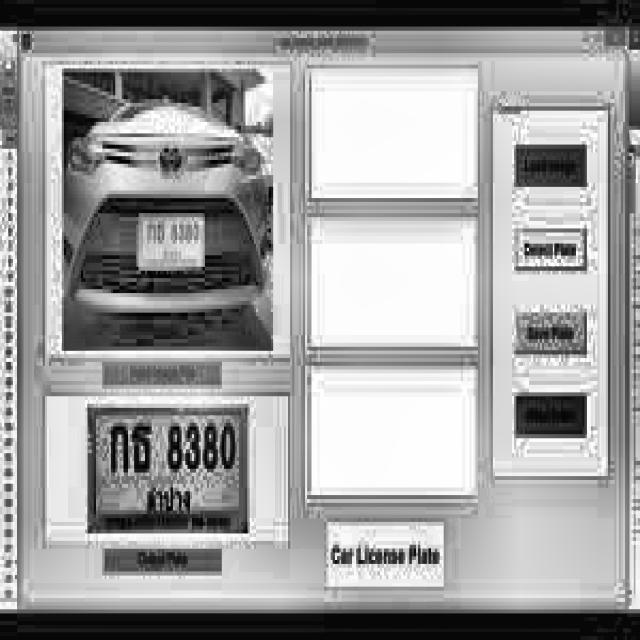license-plate: (79, 396, 252, 534), (122, 198, 222, 282)
